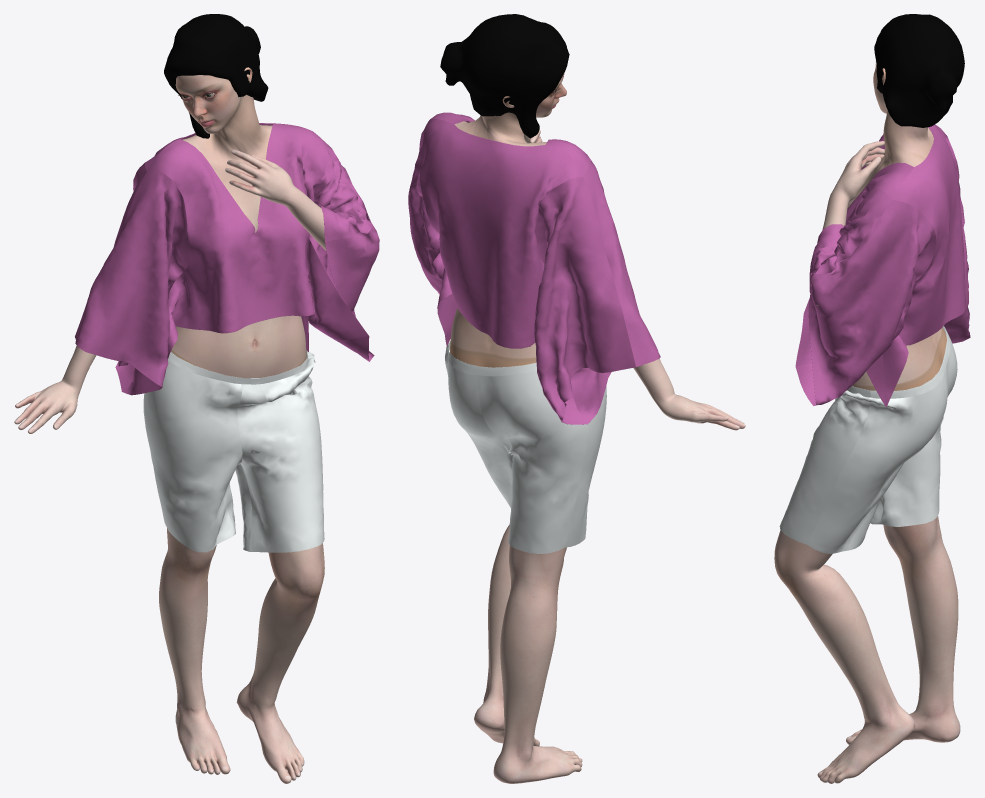
File: Custom_View_5__Dramatic.obj
3 renders of one model, left to right at view 1: azimuth 30°, elevation 25°; view 2: azimuth 150°, elevation 25°; view 3: azimuth 270°, elevation 25°, orthographic. The views are drawn at different scales.
Bounding box in the file's own units: 818 × 1767 × 421.
